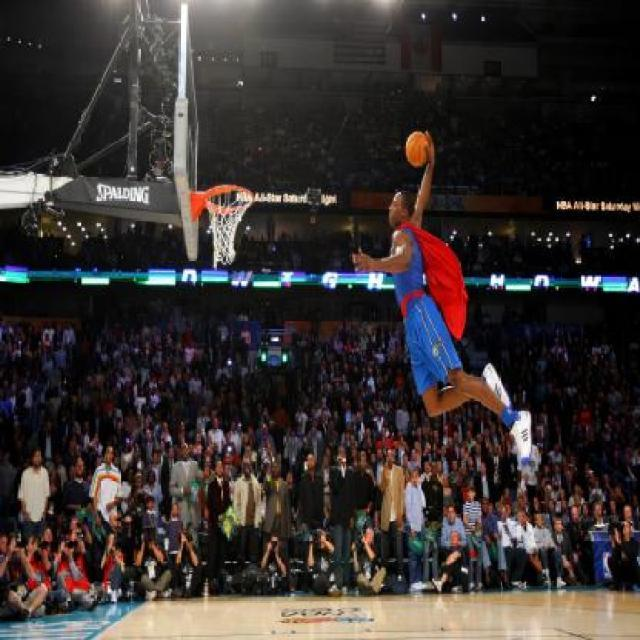basketball: (404, 130, 430, 166)
rim: (204, 186, 256, 268)
